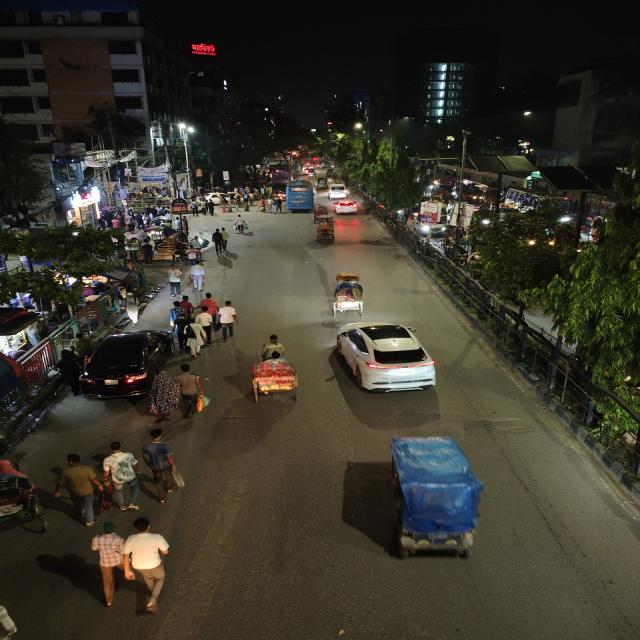bus: (406, 201, 449, 237), (283, 180, 315, 212)
car: (326, 321, 451, 399), (78, 327, 173, 401), (334, 199, 360, 215), (326, 184, 348, 199)
pedestrian: (120, 514, 180, 614), (87, 519, 129, 610), (53, 452, 102, 527), (142, 430, 187, 502), (102, 440, 143, 512), (172, 361, 206, 419), (181, 308, 209, 357), (216, 298, 238, 340), (194, 306, 215, 344), (164, 265, 185, 297), (179, 320, 198, 354), (188, 261, 208, 292), (167, 301, 184, 331), (211, 228, 229, 255), (178, 292, 194, 321), (232, 213, 247, 235)
rickshaw: (372, 432, 508, 569), (0, 449, 50, 539), (242, 335, 306, 405), (326, 272, 372, 320), (314, 220, 339, 241), (170, 197, 192, 217), (314, 204, 329, 218)
